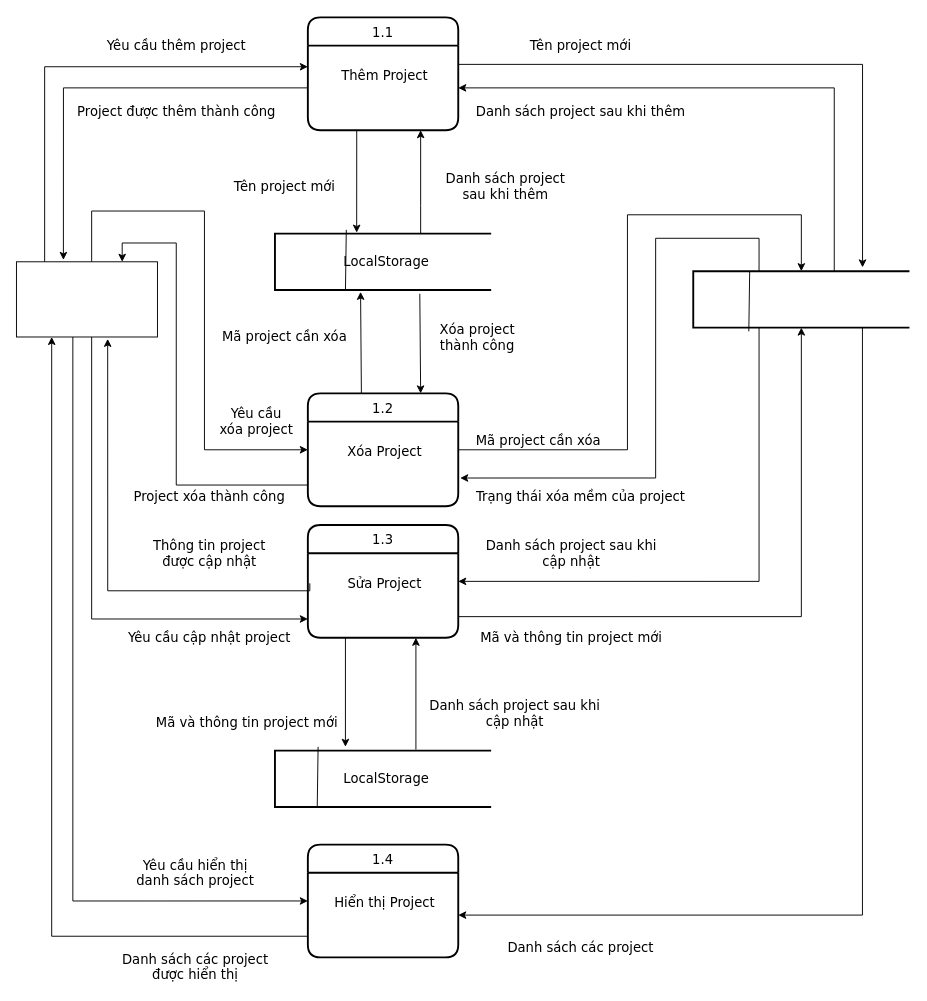
The diagram is 927 pixels wide and 1001 high, and some of its shapes have lost their labels. Each missing label, with the box of its shape:
Database: (692, 270, 910, 328)
User: (16, 261, 157, 337)
